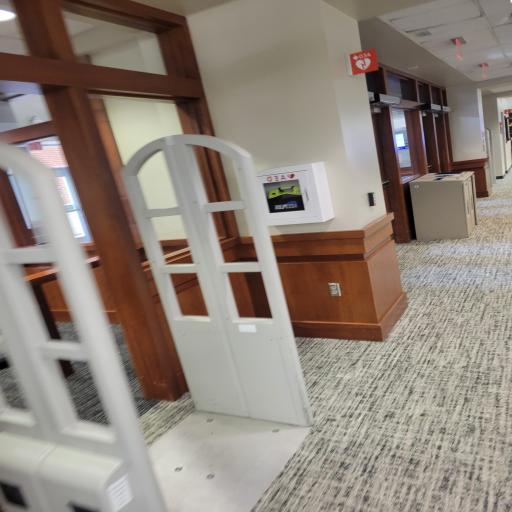defibrillator: (261, 158, 330, 227)
defibrillator sign: (346, 47, 378, 77)
exit sign: (444, 36, 470, 62), (477, 60, 492, 79)
trash cans: (408, 168, 479, 239)
